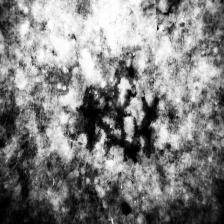Benign Marking or Mole: (82, 59, 165, 158)
